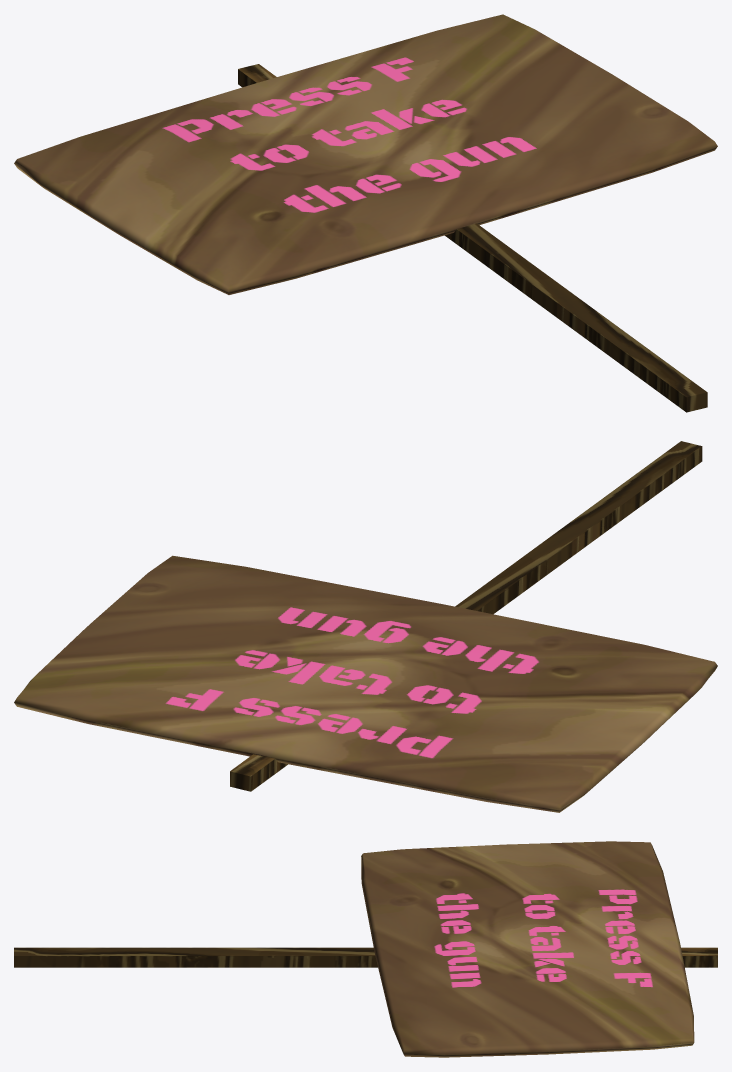
Rendered from Cartel.glb.
3 renders of one model, top to bottom at view 1: azimuth 30°, elevation 25°; view 2: azimuth 150°, elevation 25°; view 3: azimuth 270°, elevation 25°, orthographic. The views are drawn at different scales.
Visible parts, largest first — view 1: pCube3, pCube2; view 2: pCube3, pCube2; view 3: pCube3, pCube2.
Boxes of the visible parts, <box> form: pCube3: <box>14,14,717,294</box>; pCube2: <box>238,64,707,412</box>; pCube3: <box>14,555,717,812</box>; pCube2: <box>230,441,702,791</box>; pCube3: <box>361,841,694,1057</box>; pCube2: <box>14,947,717,967</box>.
Bounding box in the file's own units: 0.0958 × 0.00502 × 0.1355.
Materials: 2 (2 with a texture image).
